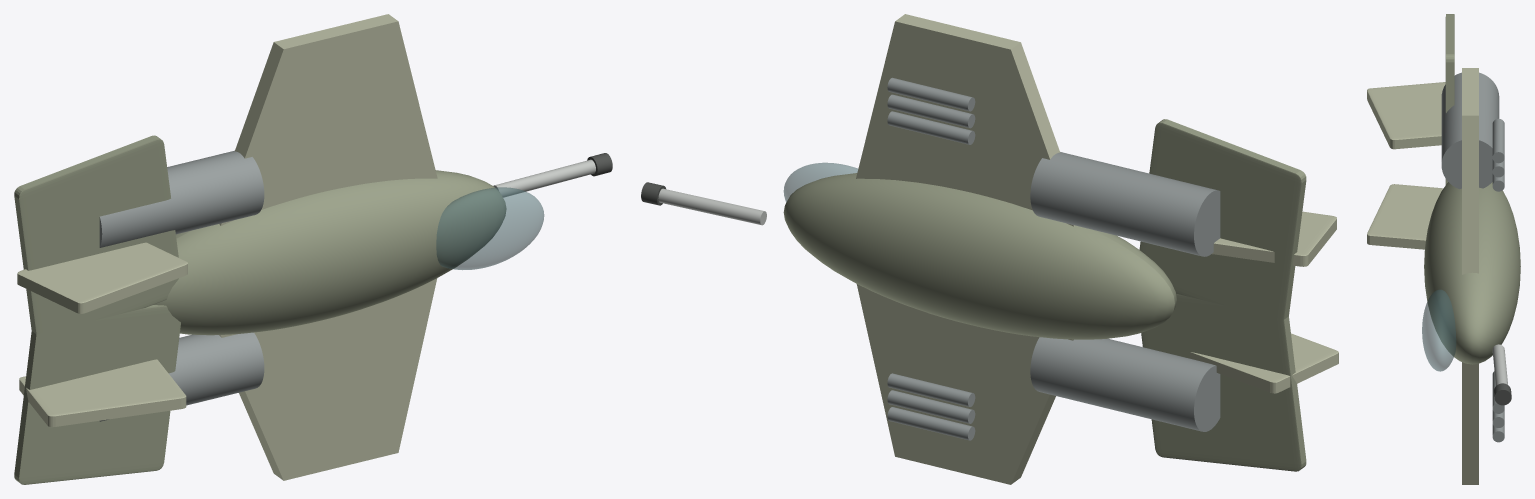
File: v-u24-vanguard-light-gunship-lod1.glb
3 views of the same model, side by side, from view 1: azimuth 30°, elevation 25°; view 2: azimuth 150°, elevation 25°; view 3: azimuth 270°, elevation 25° (orthographic). The views are drawn at different scales.
Parts seen in each view (by area): view 1: combat_main_wing, combat_fuselage, combat_tailplane_-1, combat_tailplane_1, combat_engine_1, combat_canopy, combat_fin_1, combat_fin_-1, combat_engine_0, combat_gun_barrel_0; view 2: combat_main_wing, combat_fuselage, combat_tailplane_1, combat_tailplane_-1, combat_engine_1, combat_engine_0, combat_fin_-1, combat_fin_1, combat_gun_barrel_0, combat_1_tube_1, combat_-1_tube_2, combat_1_tube_2 (+4 smaller); view 3: combat_fuselage, combat_main_wing, combat_fin_1, combat_engine_1, combat_fin_-1, combat_canopy, combat_tailplane_1, combat_1_tube_3, combat_gun_barrel_0, combat_gun_muzzle_0, combat_-1_tube_3, combat_1_tube_1 (+3 smaller).
Boxes of the visible parts, left/top/right/bottom form: combat_main_wing: left=219, top=14, right=437, bottom=480; combat_fuselage: left=153, top=170, right=506, bottom=335; combat_tailplane_-1: left=14, top=305, right=180, bottom=484; combat_tailplane_1: left=14, top=135, right=178, bottom=337; combat_engine_1: left=99, top=150, right=264, bottom=247; combat_canopy: left=436, top=187, right=544, bottom=269; combat_fin_1: left=17, top=242, right=187, bottom=313; combat_fin_-1: left=19, top=359, right=186, bottom=427; combat_engine_0: left=99, top=332, right=264, bottom=421; combat_gun_barrel_0: left=493, top=159, right=595, bottom=197; combat_main_wing: left=856, top=14, right=1074, bottom=484; combat_fuselage: left=783, top=173, right=1176, bottom=339; combat_tailplane_1: left=1139, top=119, right=1306, bottom=319; combat_tailplane_-1: left=1141, top=293, right=1306, bottom=471; combat_engine_1: left=1030, top=152, right=1220, bottom=256; combat_engine_0: left=1030, top=337, right=1220, bottom=431; combat_fin_-1: left=1190, top=333, right=1338, bottom=393; combat_fin_1: left=1212, top=211, right=1336, bottom=266; combat_gun_barrel_0: left=658, top=188, right=766, bottom=225; combat_1_tube_1: left=887, top=111, right=975, bottom=144; combat_-1_tube_2: left=887, top=390, right=975, bottom=423; combat_1_tube_2: left=887, top=94, right=975, bottom=128; combat_fuselage: left=1424, top=182, right=1520, bottom=364; combat_main_wing: left=1462, top=68, right=1478, bottom=484; combat_fin_1: left=1367, top=82, right=1445, bottom=149; combat_engine_1: left=1441, top=72, right=1499, bottom=189; combat_fin_-1: left=1367, top=184, right=1443, bottom=249; combat_canopy: left=1422, top=289, right=1456, bottom=371; combat_tailplane_1: left=1445, top=14, right=1454, bottom=184; combat_1_tube_3: left=1492, top=118, right=1504, bottom=163; combat_gun_barrel_0: left=1492, top=344, right=1507, bottom=385; combat_gun_muzzle_0: left=1494, top=383, right=1511, bottom=405; combat_-1_tube_3: left=1492, top=371, right=1504, bottom=413; combat_1_tube_1: left=1492, top=174, right=1504, bottom=191.
Size of what is drawn, in the model's own units: 12.37 by 8.18 by 3.09.
